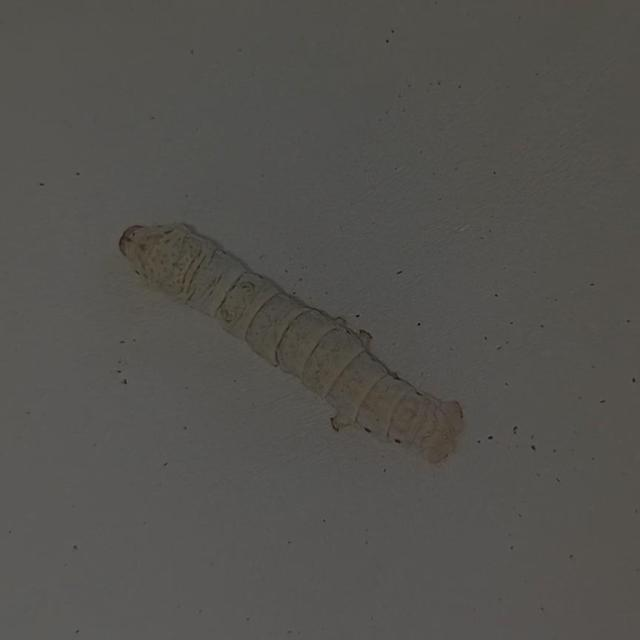Healthy: (112, 193, 486, 502)
